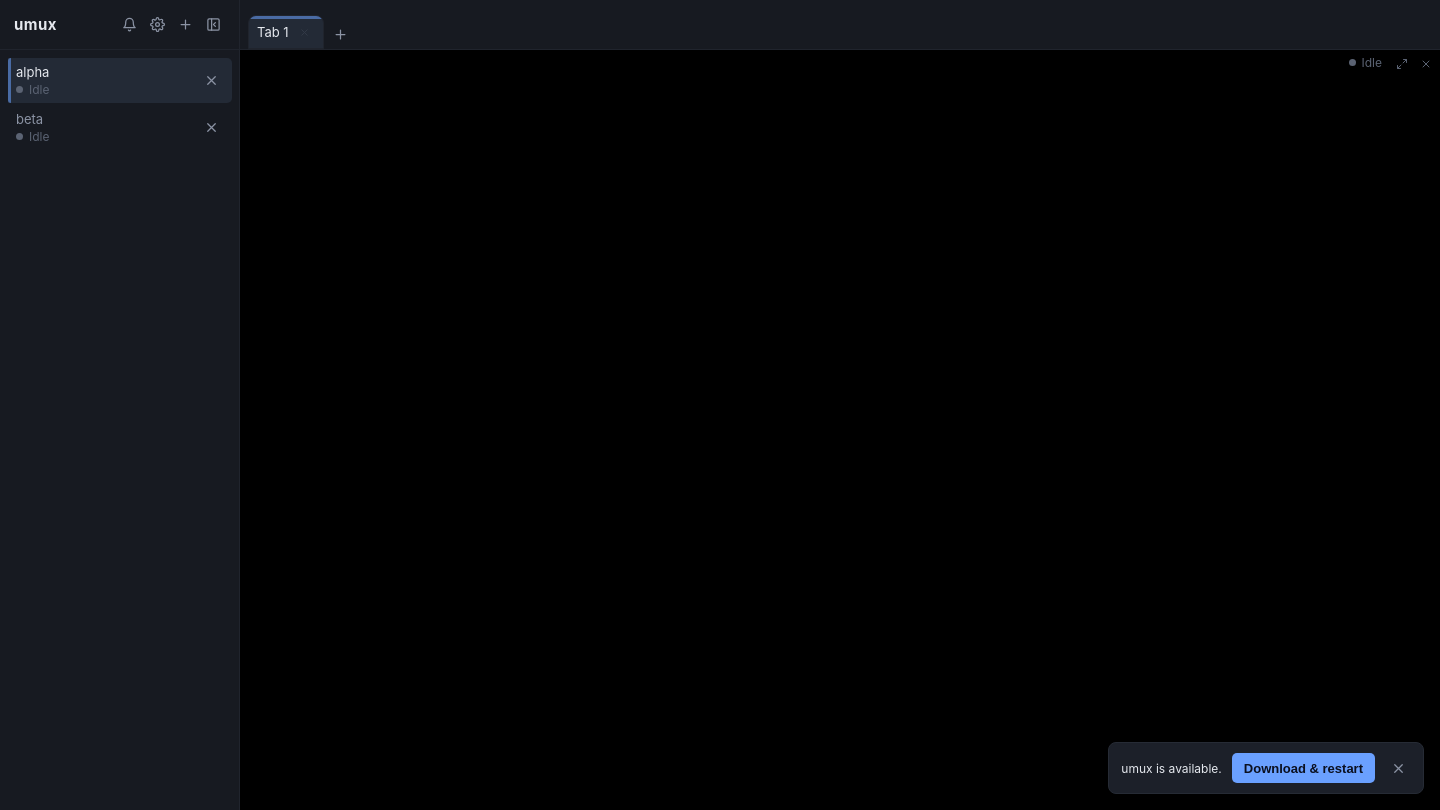
Test case: terminal tabs, pin, and rename menu (#37 rework) › Rename workspace in the menu opens the same inline edit
The width and height of the screenshot is (1440, 810).
Expected: the text "alpha" is shown, [16,64,49,80]
Right-click the list item with test id "workspace-row-ws-1".
right_click(120, 80)  # box [8,58,232,103]
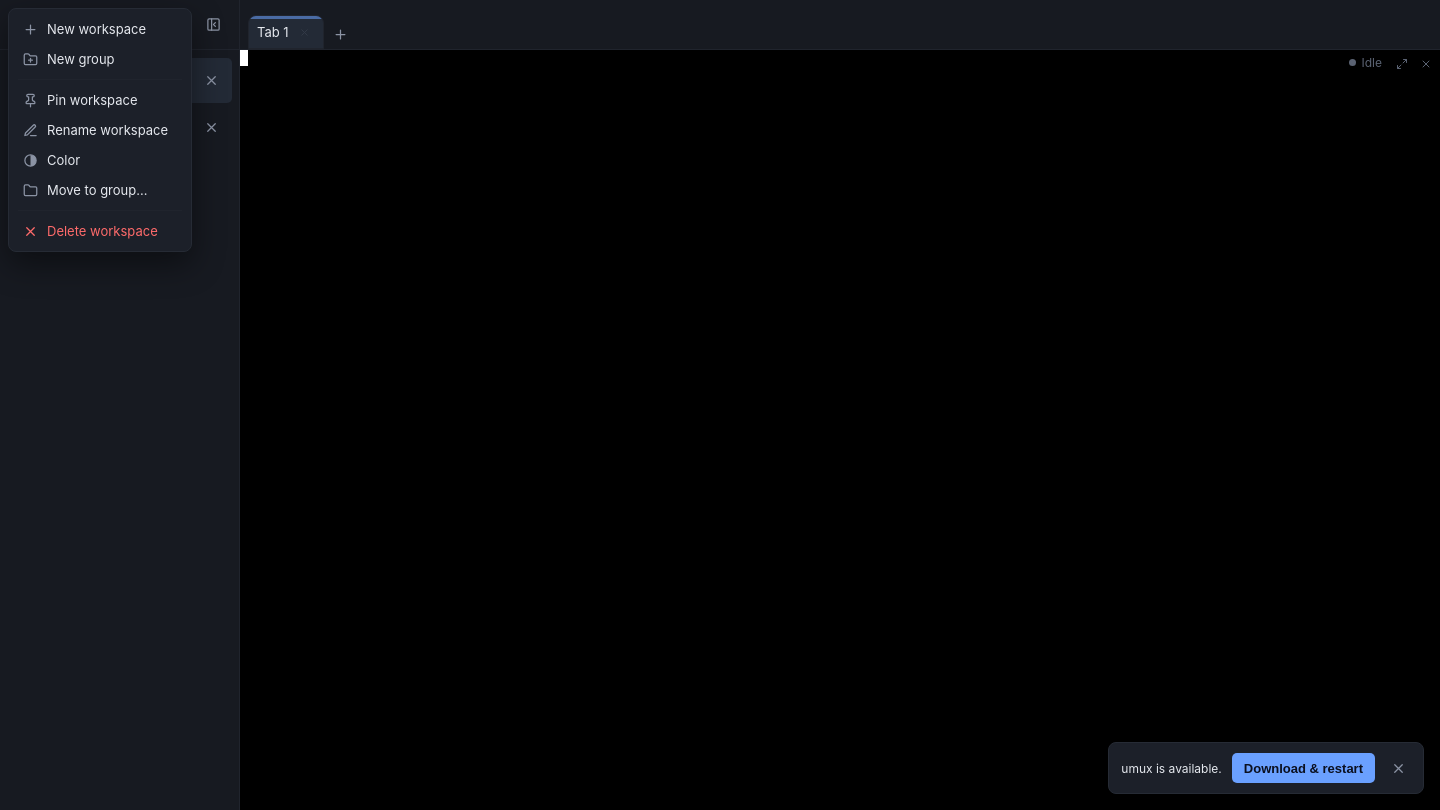
Click the menu item "Rename workspace".
click(100, 130)  # box [14,115,186,145]
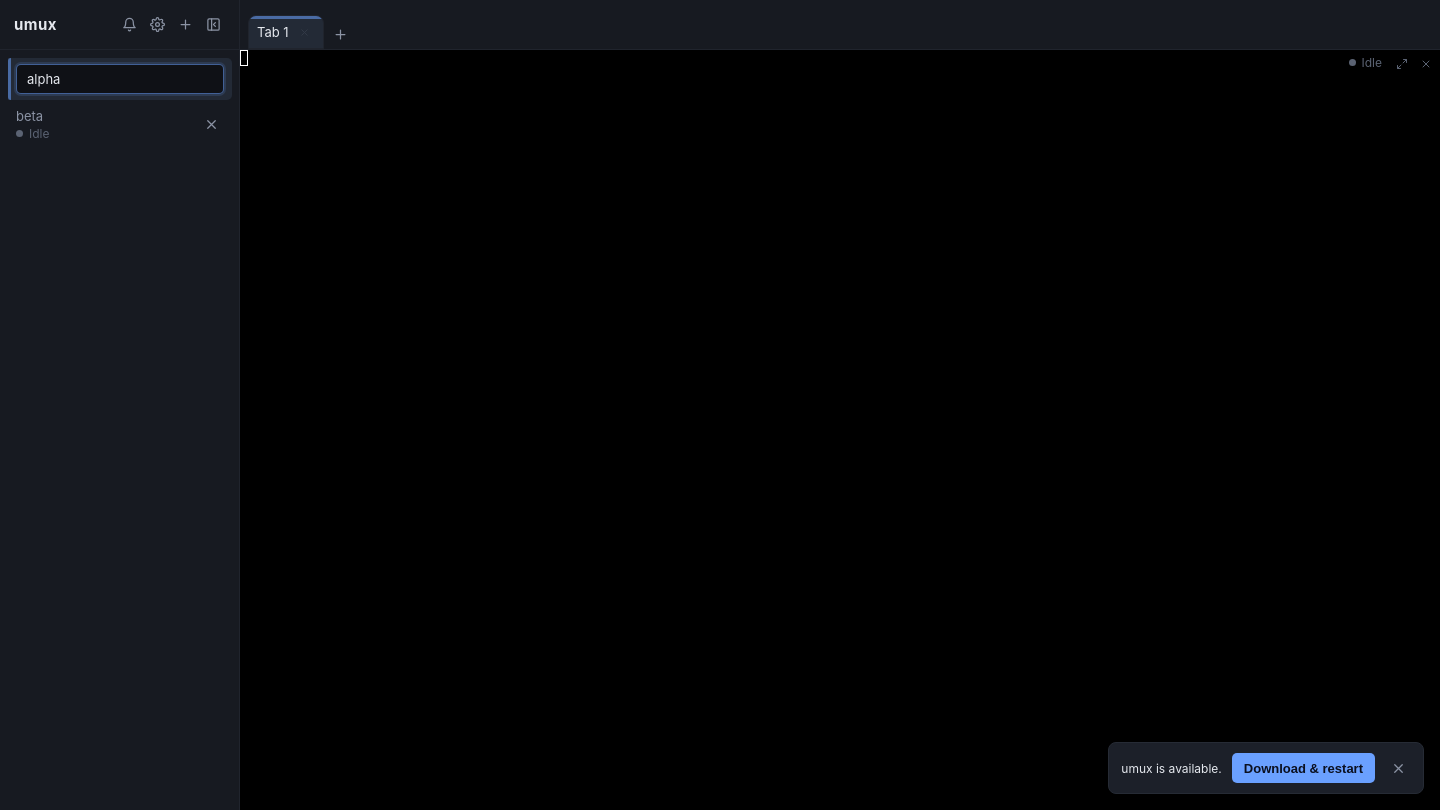
Now the field named "rename workspace" holds "alpha"
Replace the text in the field named "rename workspace" with "renamed" at point(120, 79), box [16,64,224,94]
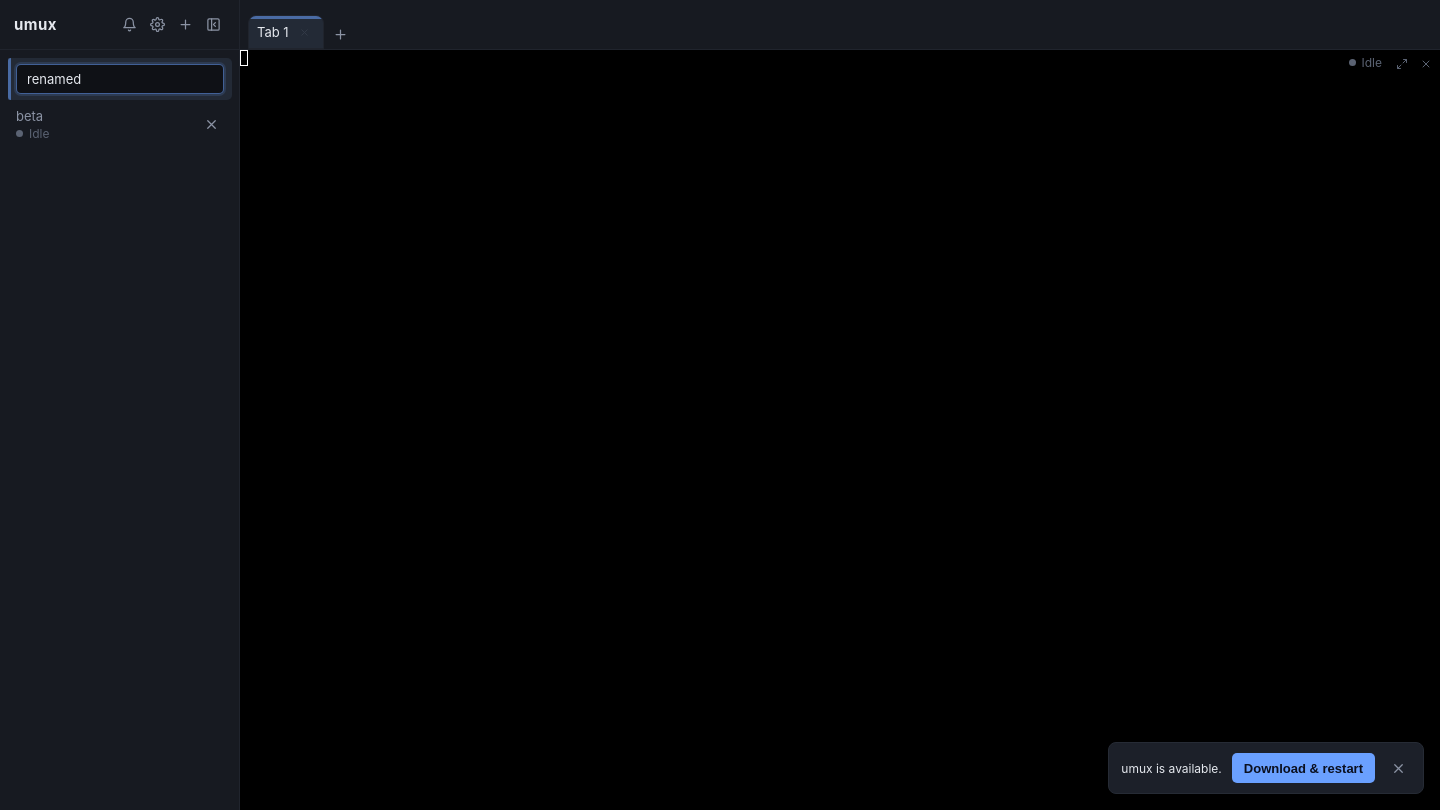
Press Enter in the field named "rename workspace", box [16,64,224,94]
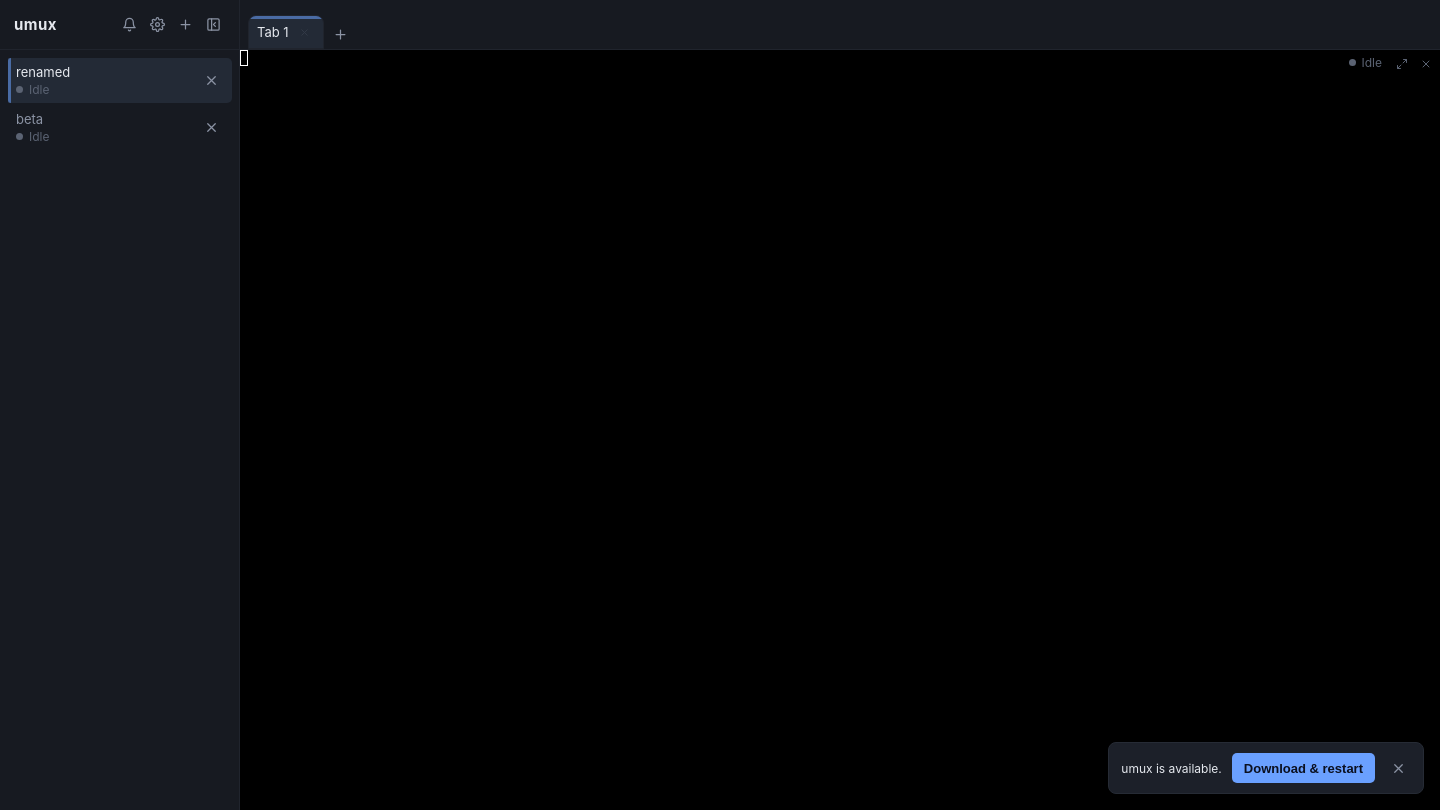
Now the text "renamed" is shown, box [16,64,70,80]
